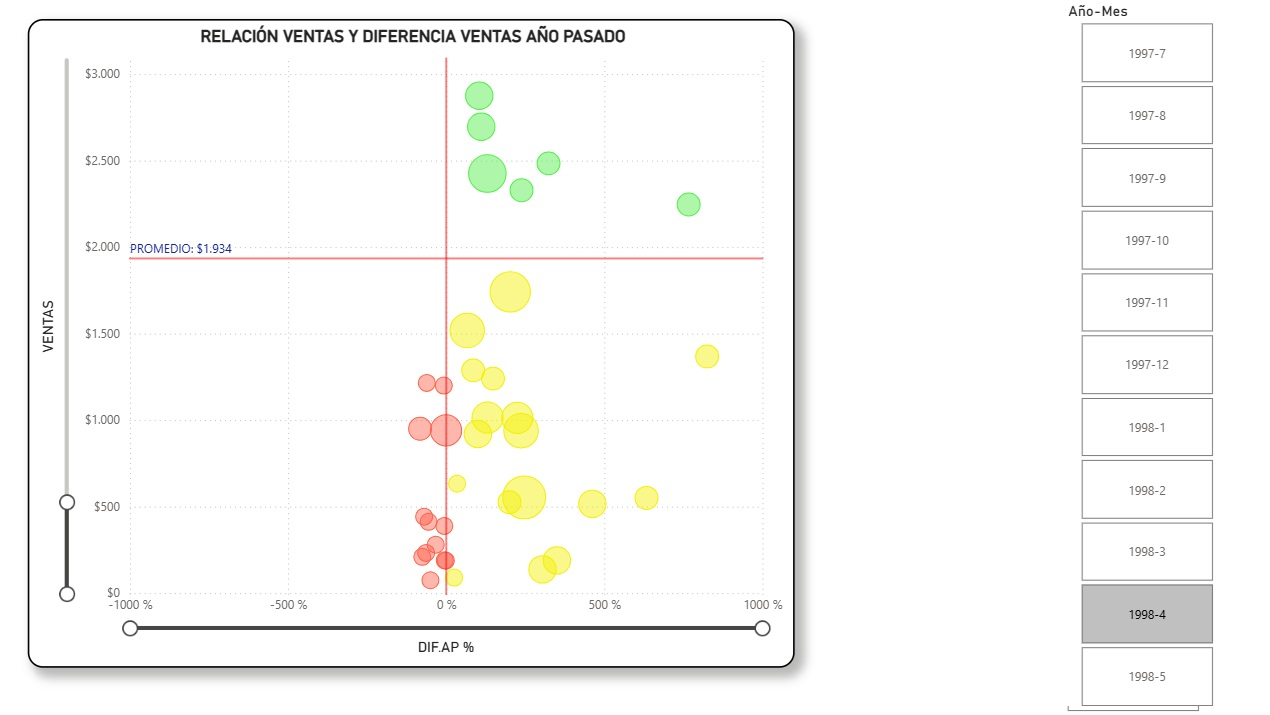

This screenshot's page, from the dashboard's own definition file:
{"tool":"powerbi","page":{"name":"DISPERSIÓN","canvas":[1280,720],"ordinal":0},"visuals":[{"type":"scatterChart","title":"RELACIÓN VENTAS Y DIFERENCIA VENTAS AÑO PASADO","fields":{"Category":["Products.ProductName"],"Y":["MEDIDAS.VENTAS"],"X":["MEDIDAS.DIF.AP %"],"Size":["MEDIDAS.CANTIDAD ORDENES"]},"box":[28.6,30.4,763.4,645.4],"z":0},{"type":"slicer","fields":{"Values":["CALENDARIO.Año-Mes"]},"box":[1051.2,8.9,180.6,711.5],"z":1000}]}

Visuals, with their boxes in screenshot pixels (x1, y1, x2, y2), scaled from the page's 1280x720 canvas onto the 1270x715 screenshot:
"RELACIÓN VENTAS Y DIFERENCIA VENTAS AÑO PASADO" scatterChart: [28,30,786,671]
slicer - CALENDARIO.Año-Mes: [1043,9,1222,714]
